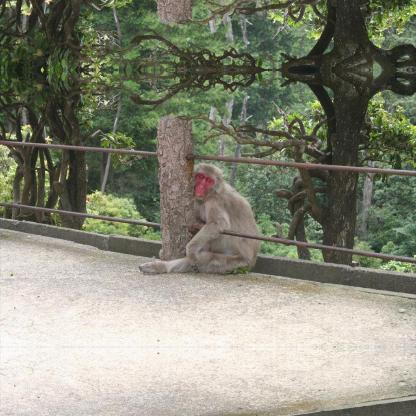Monkey: (138, 162, 262, 272)
